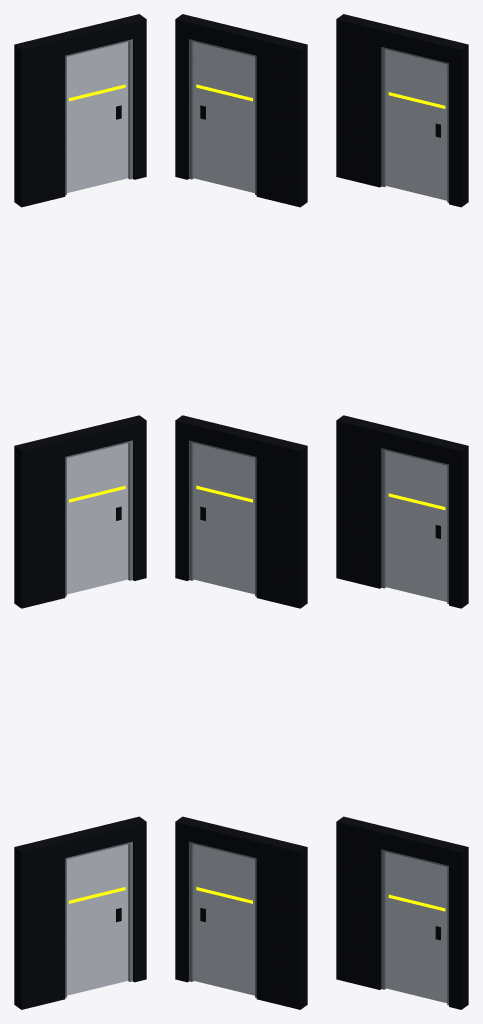
File: tt_plant_stack_staff_doors_r.glb
3 views of the same model, side by side, from view 1: azimuth 30°, elevation 25°; view 2: azimuth 150°, elevation 25°; view 3: azimuth 330°, elevation 25° (orthographic).
Visible parts, largest first — view 1: Infill_Panel, Staff_Leaf, Door_Frame, Leaf_Amber_Band; view 2: Infill_Panel, Staff_Leaf, Door_Frame, Leaf_Amber_Band; view 3: Infill_Panel, Staff_Leaf, Door_Frame, Leaf_Amber_Band.
Boxes of the visible parts, bbox=[...] form: Infill_Panel: bbox=[14, 14, 146, 1009]; Staff_Leaf: bbox=[67, 42, 128, 995]; Door_Frame: bbox=[65, 39, 132, 997]; Leaf_Amber_Band: bbox=[69, 84, 125, 903]; Infill_Panel: bbox=[175, 14, 307, 1009]; Staff_Leaf: bbox=[193, 42, 254, 995]; Door_Frame: bbox=[189, 39, 256, 997]; Leaf_Amber_Band: bbox=[196, 84, 252, 903]; Infill_Panel: bbox=[336, 14, 468, 1009]; Staff_Leaf: bbox=[386, 49, 447, 1003]; Door_Frame: bbox=[381, 47, 448, 1005]; Leaf_Amber_Band: bbox=[388, 92, 445, 911].
Size of what is drawn, in the model's own units: 1.99 by 14.6 by 0.2.
5 materials, 4 textured.
